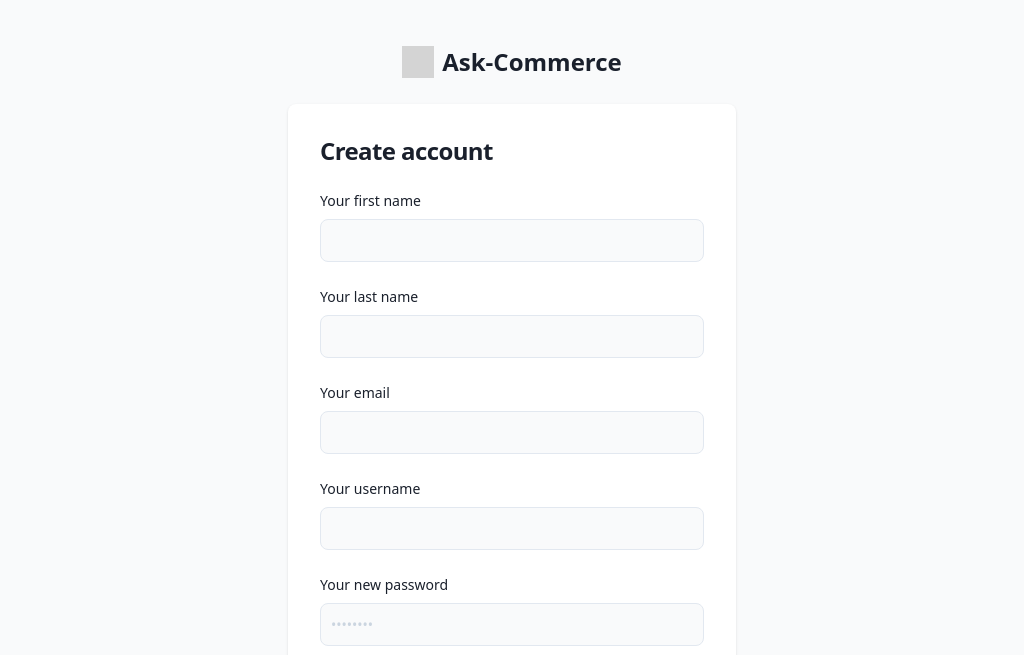
RegisterForm › Exibe uma mensagem de erro quando as senhas não coincidem
The image size is (1024, 655).
Type "senha123" into the password field named "password" at (512, 625), box [320,603,704,646]
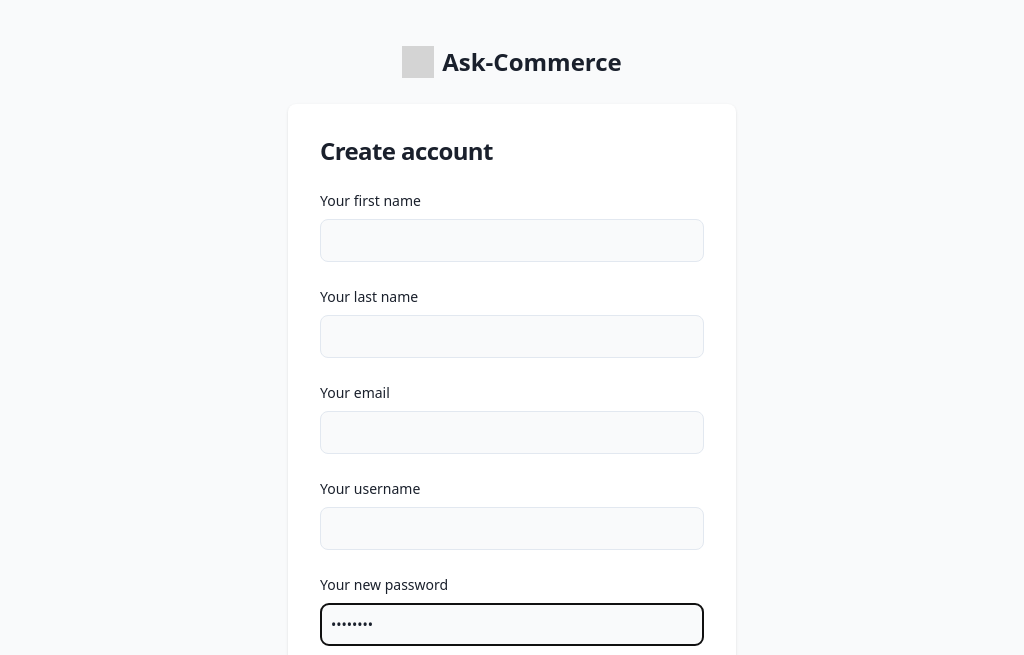
Scroll
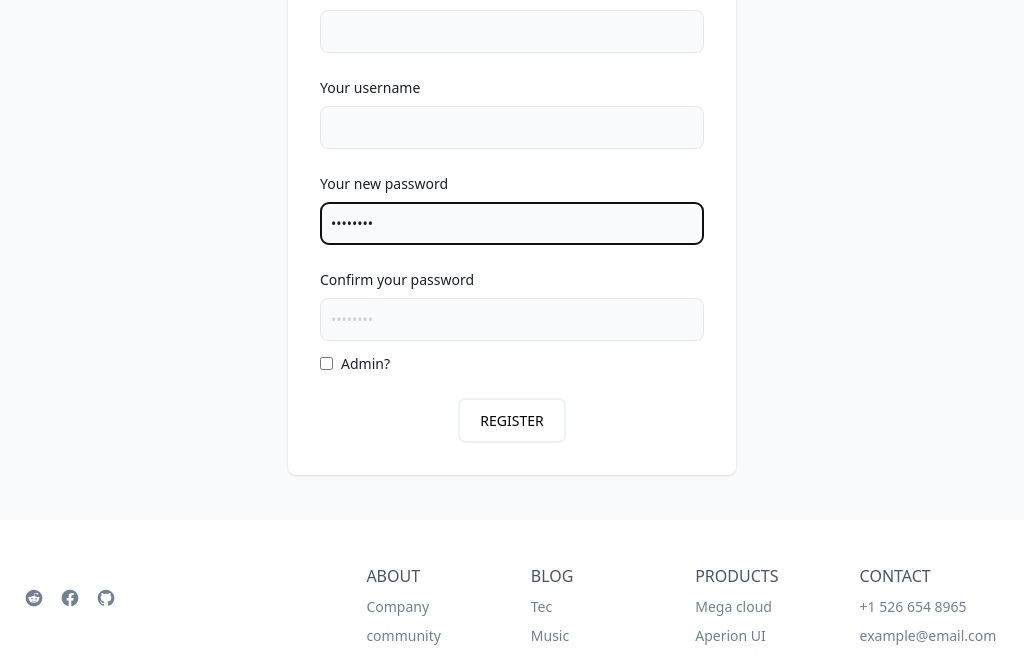
Type "senha456" into the password field named "confirmPassword" at (512, 320), box [320,298,704,341]
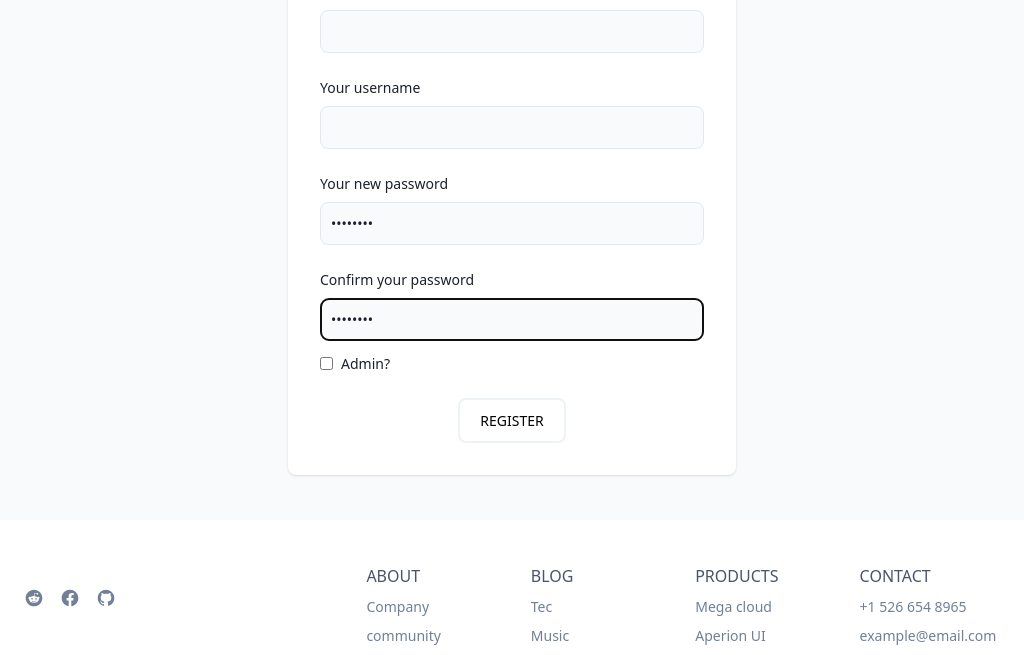
Click the submit button at (512, 421), box [458,398,565,443]
(page scrolled)
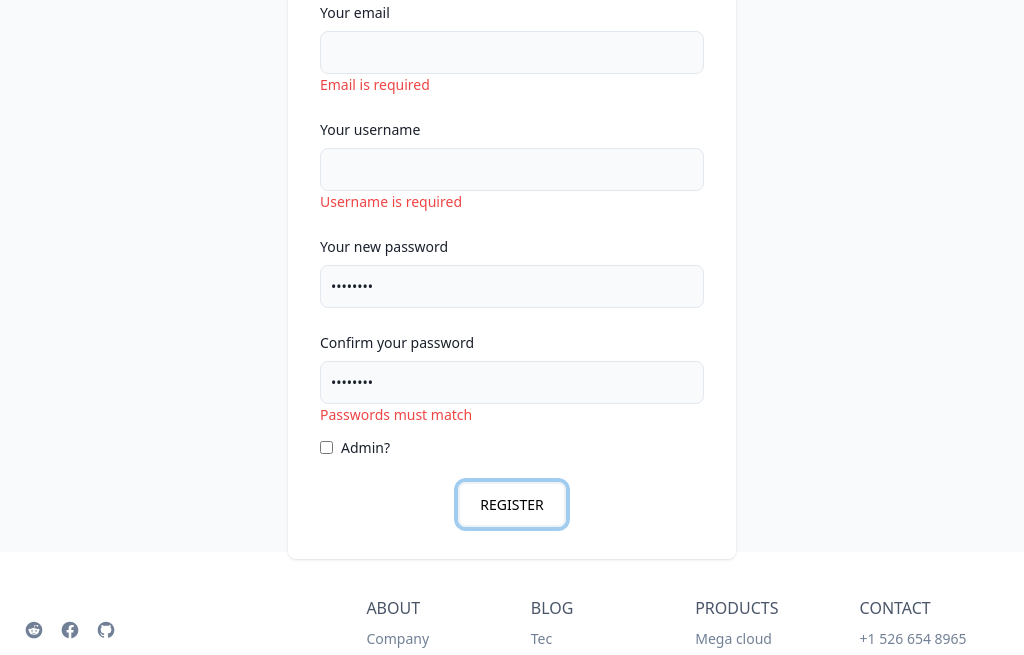
Result: the text "Passwords must match" is shown at [320,405,472,424]
